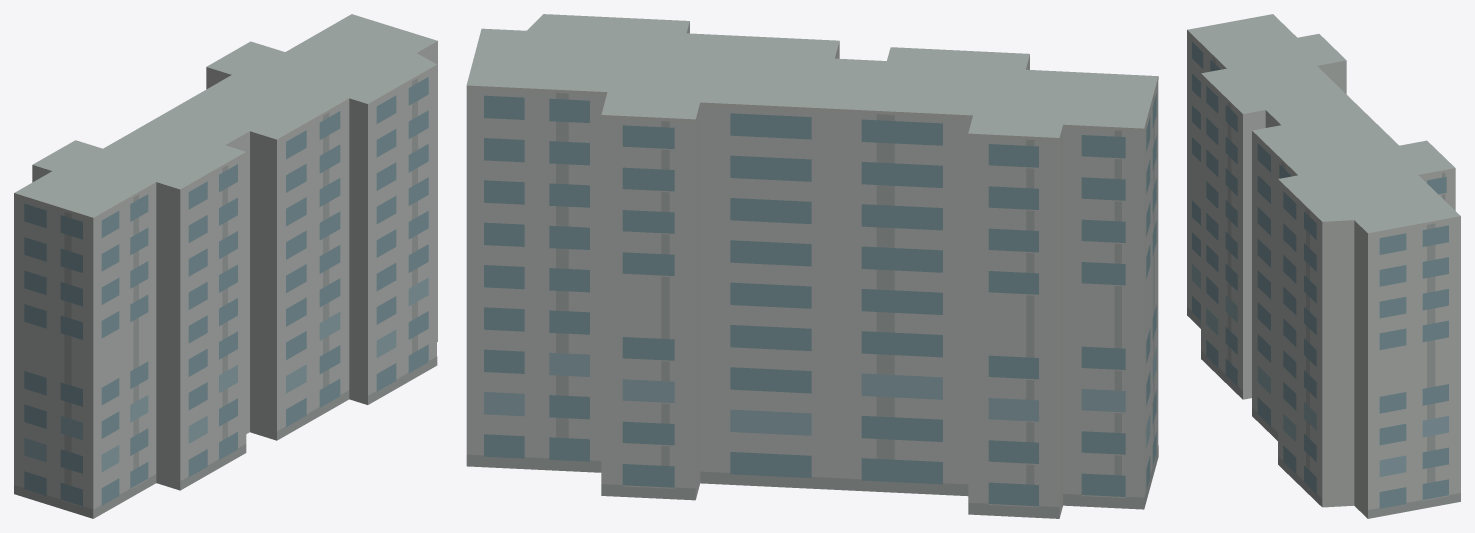
File: residential-b0f94c98-8c43-4756-bef4-ee61620341ba.glb
The picture shows the model from 3 angles, left to right: view 1: azimuth 30°, elevation 25°; view 2: azimuth 150°, elevation 25°; view 3: azimuth 270°, elevation 25°; orthographic projection. The views are drawn at different scales.
Visible parts, largest first — view 1: residential-b0f94c98-8c43-4756-bef4-ee61620341ba.tmp; view 2: residential-b0f94c98-8c43-4756-bef4-ee61620341ba.tmp; view 3: residential-b0f94c98-8c43-4756-bef4-ee61620341ba.tmp.
Boxes of the visible parts, x1,y1,x2,y2 form: residential-b0f94c98-8c43-4756-bef4-ee61620341ba.tmp: (14, 14, 437, 518); residential-b0f94c98-8c43-4756-bef4-ee61620341ba.tmp: (466, 14, 1158, 518); residential-b0f94c98-8c43-4756-bef4-ee61620341ba.tmp: (1187, 14, 1460, 518).
Size of the model in its own units: 46.12 by 28 by 24.33.
